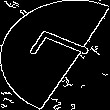L_SE: (16, 29, 94, 81)
